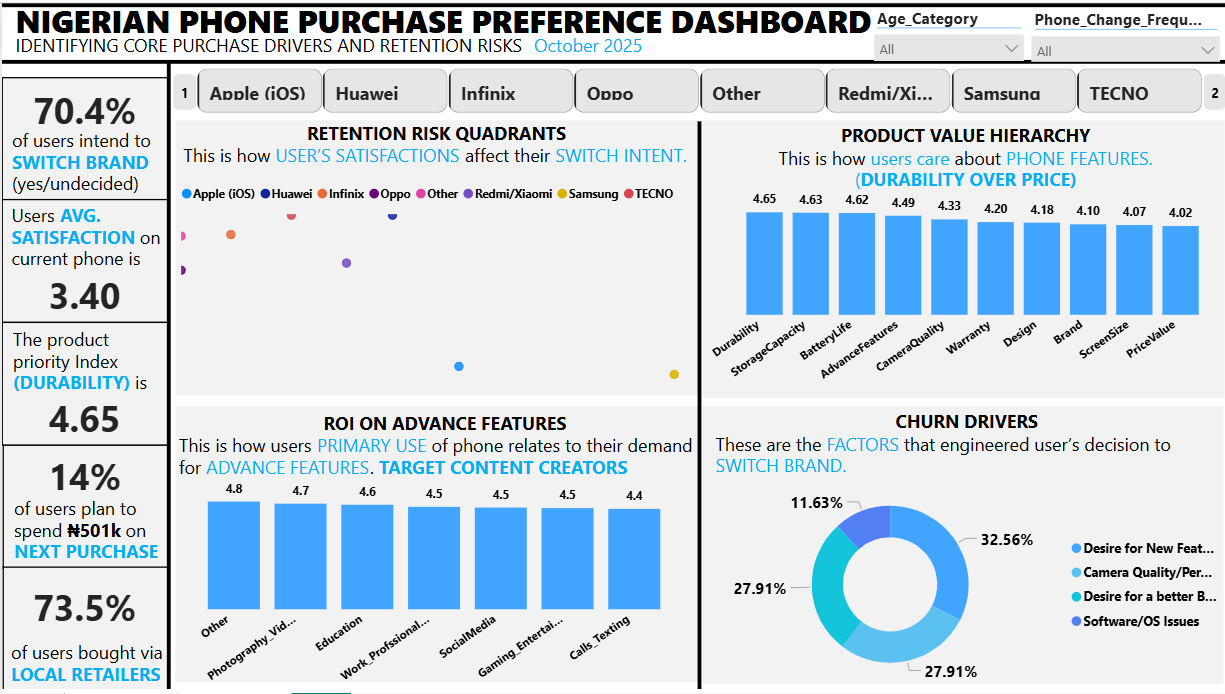

The page's visual inventory and layout, read from the dashboard file:
{"tool":"powerbi","page":{"name":"Page 1","canvas":[1280,720],"ordinal":0},"visuals":[{"type":"advancedSlicerVisual","fields":{"Values":["Phone_Purchase_Preference.Current_Brand"]},"box":[178.6,64.8,1100.2,56.2],"z":0},{"type":"card","fields":{"Values":["KPI.Churn_Rate %"]},"box":[8.6,82.1,152.6,59],"z":0,"group":"g1"},{"type":"group","id":"g1","title":"Group 1","box":[8.6,82.1,152.6,576],"z":1000},{"type":"card","fields":{"Values":["KPI.Avg_Satisfaction"]},"box":[8.6,275.1,152.6,59],"z":1000,"group":"g1"},{"type":"columnChart","fields":{"Category":["Importance_Ratings.Factor"],"Y":["Chart Measures.Importance_Ratings"]},"box":[733,180,538.6,231.8],"z":2000},{"type":"card","fields":{"Values":["KPI.Avg_Durability"]},"box":[8.6,403.2,152.6,59],"z":2000,"group":"g1"},{"type":"scatterChart","fields":{"X":["KPI.Avg_Satisfaction"],"Y":["KPI.Churn_Rate %"],"Category":["Phone_Purchase_Preference.Current_Brand"],"Series":["Phone_Purchase_Preference.Current_Brand"]},"box":[181.4,180,538.6,231.8],"z":3000},{"type":"card","fields":{"Values":["KPI.Premuim_Budget %"]},"box":[8.6,463.7,152.6,59],"z":3000,"group":"g1"},{"type":"columnChart","fields":{"Category":["Use_Case.Primary_Use"],"Y":["Chart Measures.Feature_Demand"]},"box":[181.4,481,538.6,239],"z":3001},{"type":"donutChart","fields":{"Y":["Chart Measures.Respondent_Count"],"Category":["Phone_Purchase_Preference.Reason_for_Switch"]},"box":[730.7,493.9,549.3,225.1],"z":3002},{"type":"slicer","fields":{"Values":["Phone_Purchase_Preference.Age_Category"]},"box":[898.6,0,175.7,63.4],"z":3003,"group":"g2"},{"type":"slicer","fields":{"Values":["Phone_Purchase_Preference.Phone_Change_Frequency"]},"box":[1062.8,1.4,216,60.5],"z":3004,"group":"g2"},{"type":"group","id":"g2","title":"Group 2","box":[898.6,0,380.2,63.4],"z":3005},{"type":"shape","box":[178.6,74.9,24.5,37.4],"z":3006},{"type":"shape","box":[1251.4,74.9,24.5,37.4],"z":3007},{"type":"card","fields":{"Values":["KPI.Local_Retailer_Share %"]},"box":[8.6,599.1,152.6,59],"z":4000,"group":"g1"}]}

Visuals, with their boxes in screenshot pixels (x1, y1, x2, y2), scaled from the page's 1280x720 canvas onto the 1225x694 screenshot:
advancedSlicerVisual - Phone_Purchase_Preference.Current_Brand: locate(171, 62, 1224, 117)
card - KPI.Churn_Rate %: locate(8, 79, 154, 136)
"Group 1" group: locate(8, 79, 154, 634)
card - KPI.Avg_Satisfaction: locate(8, 265, 154, 322)
columnChart - Importance_Ratings.Factor x Chart Measures.Importance_Ratings: locate(702, 174, 1217, 397)
card - KPI.Avg_Durability: locate(8, 389, 154, 446)
scatterChart - KPI.Avg_Satisfaction x KPI.Churn_Rate %: locate(174, 174, 689, 397)
card - KPI.Premuim_Budget %: locate(8, 447, 154, 504)
columnChart - Use_Case.Primary_Use x Chart Measures.Feature_Demand: locate(174, 464, 689, 693)
donutChart - Chart Measures.Respondent_Count x Phone_Purchase_Preference.Reason_for_Switch: locate(699, 476, 1224, 693)
slicer - Phone_Purchase_Preference.Age_Category: locate(860, 0, 1028, 61)
slicer - Phone_Purchase_Preference.Phone_Change_Frequency: locate(1017, 1, 1224, 60)
"Group 2" group: locate(860, 0, 1224, 61)
shape: locate(171, 72, 194, 108)
shape: locate(1198, 72, 1221, 108)
card - KPI.Local_Retailer_Share %: locate(8, 577, 154, 634)
